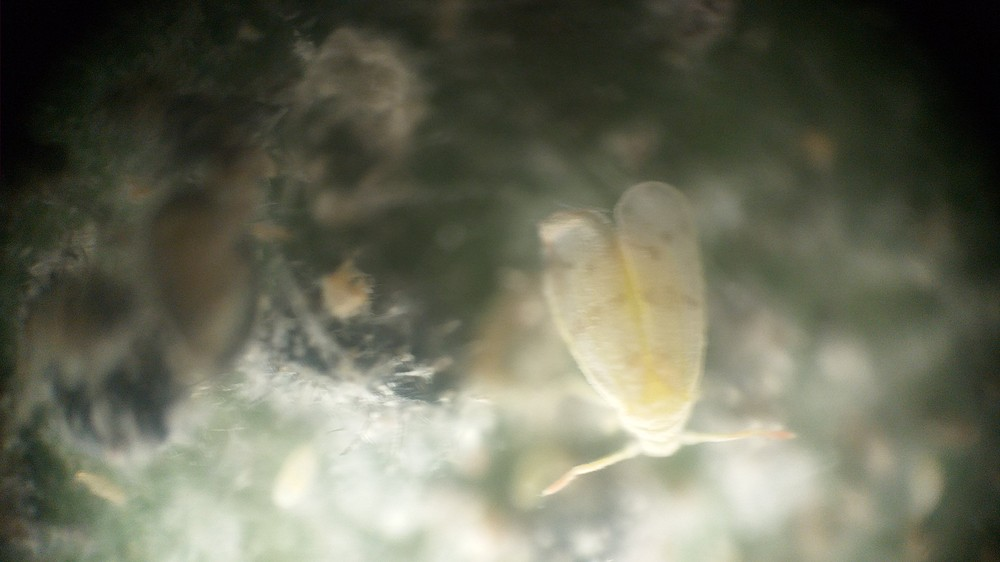Mosca Blanca: (503, 192, 829, 510)
